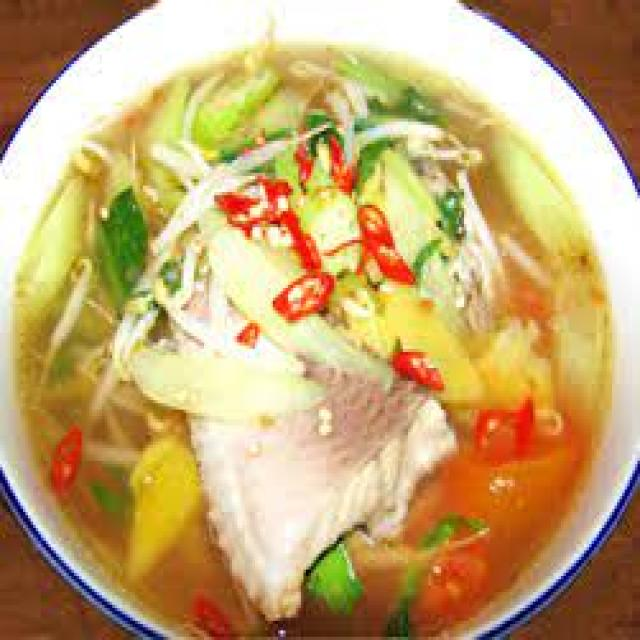canh chua: (15, 42, 609, 637)
